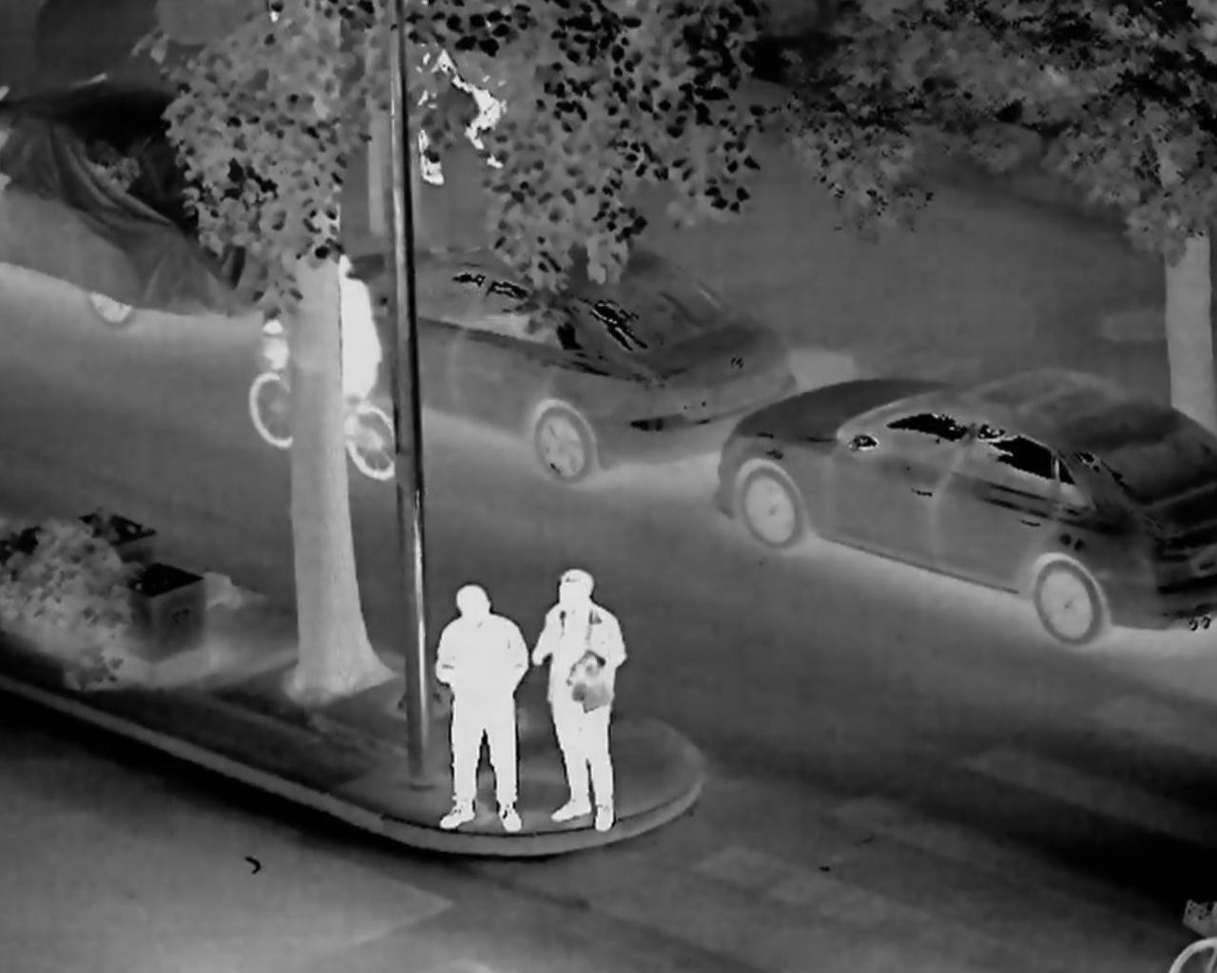person: (533, 555, 636, 831), (434, 585, 544, 834), (307, 209, 398, 448), (421, 29, 511, 184)
